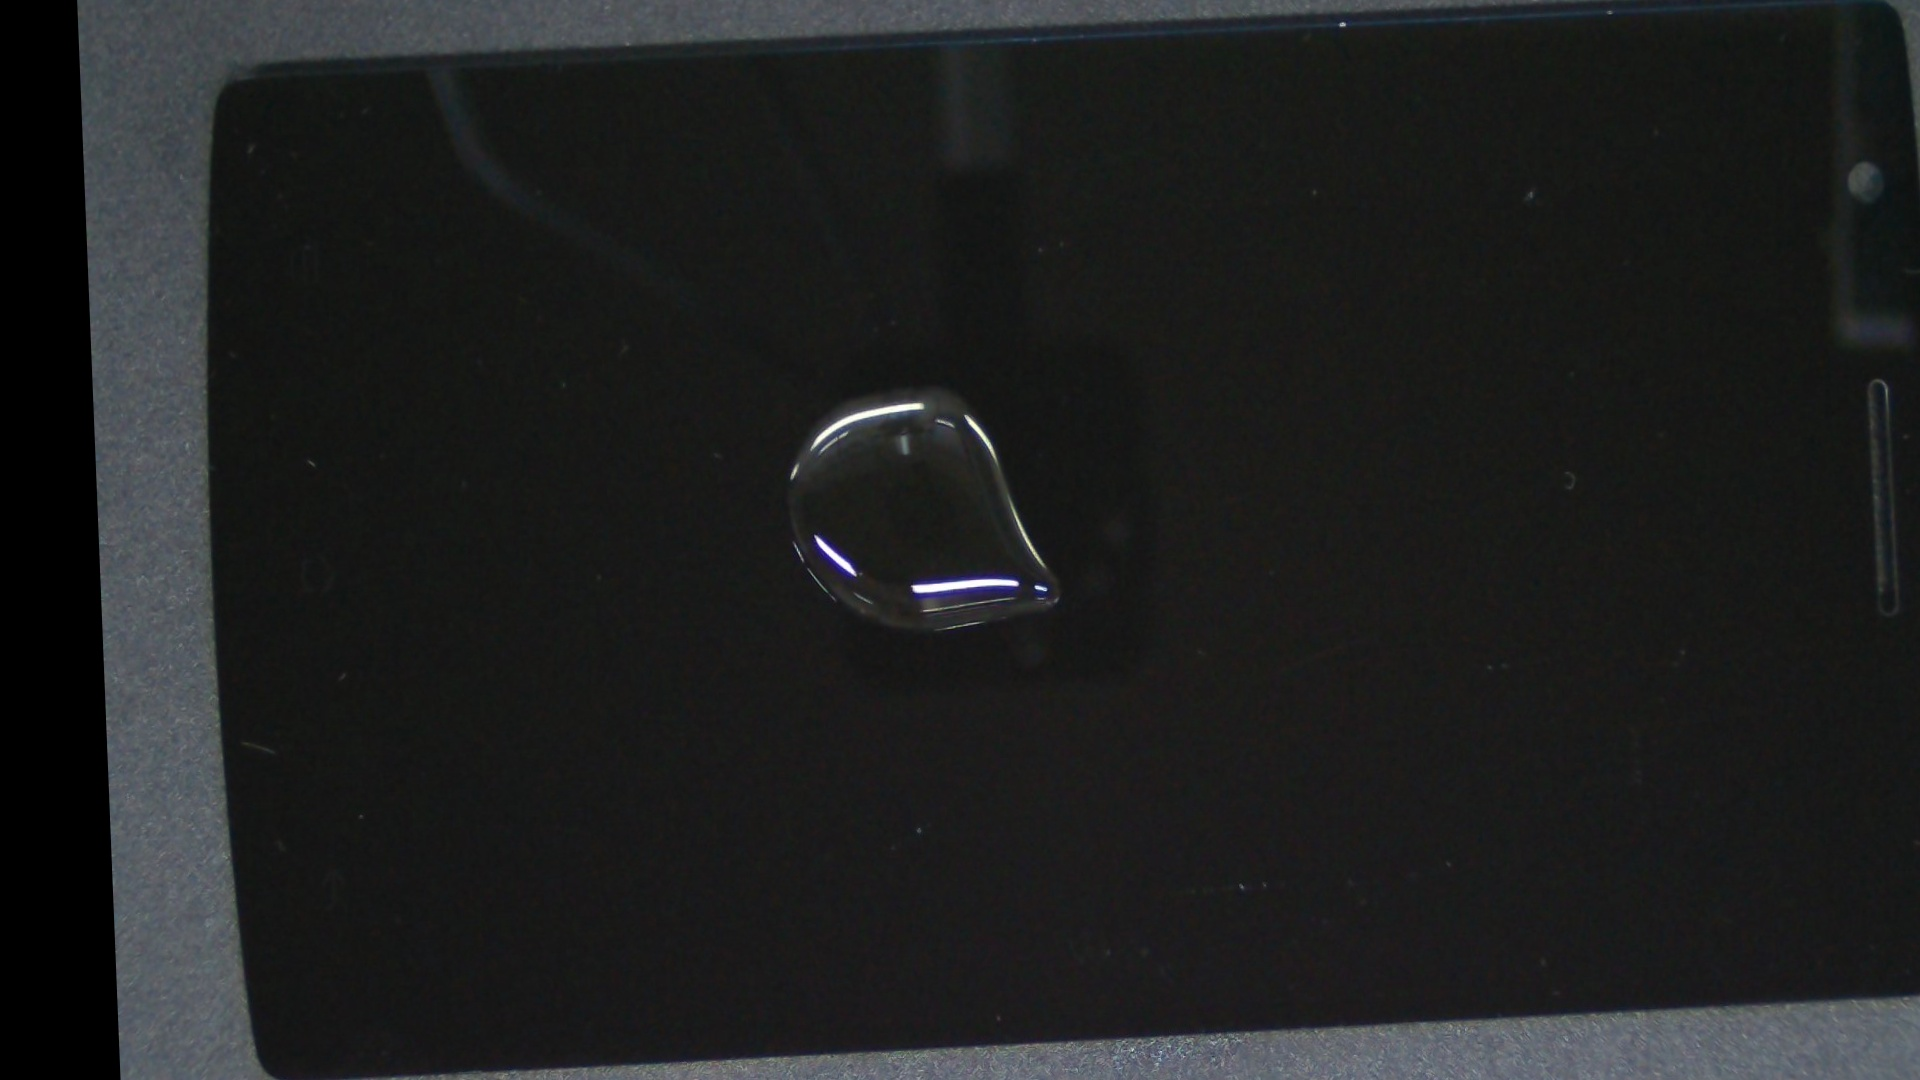oil: (495, 115, 1333, 655)
